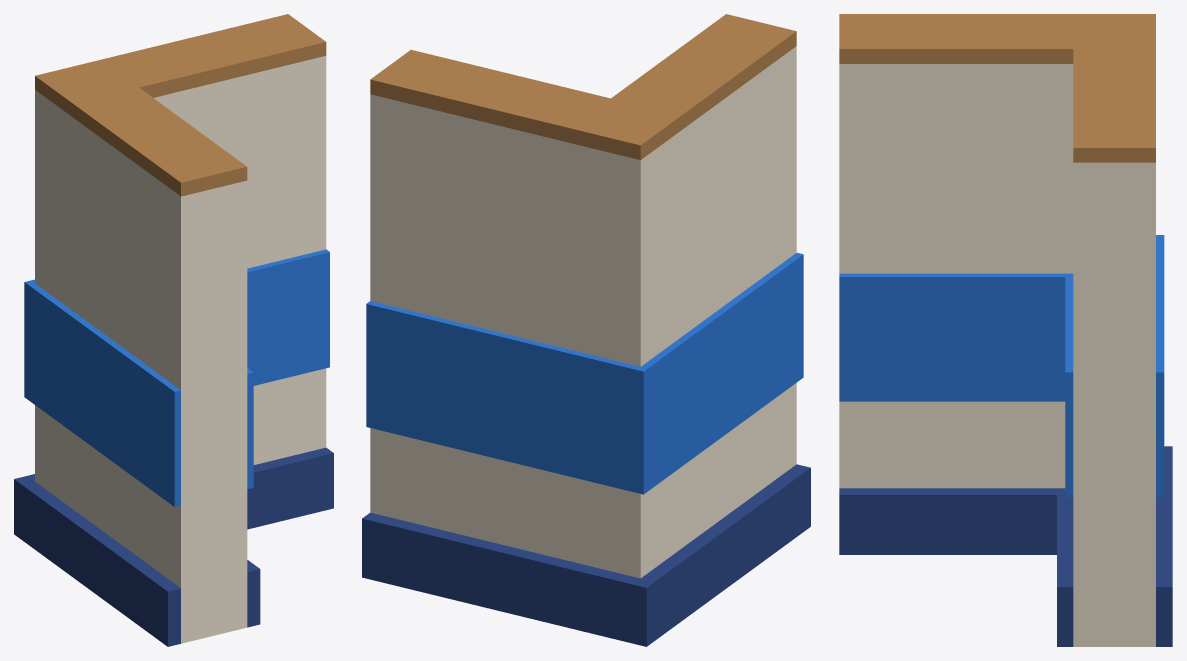
Rendered from partition-full-elbow.glb.
3 renders of one model, left to right at view 1: azimuth 30°, elevation 25°; view 2: azimuth 150°, elevation 25°; view 3: azimuth 270°, elevation 25°, orthographic. The views are drawn at different scales.
Visible parts, largest first — view 1: partition-full-elbow; view 2: partition-full-elbow; view 3: partition-full-elbow.
Part boxes in pixels (left/top/right/bottom): partition-full-elbow: left=14, top=14, right=333, bottom=646; partition-full-elbow: left=362, top=14, right=810, bottom=646; partition-full-elbow: left=839, top=14, right=1172, bottom=646.
Size of the model in its own units: 0.605 by 1 by 0.605.
Materials: 1 (1 with a texture image).
